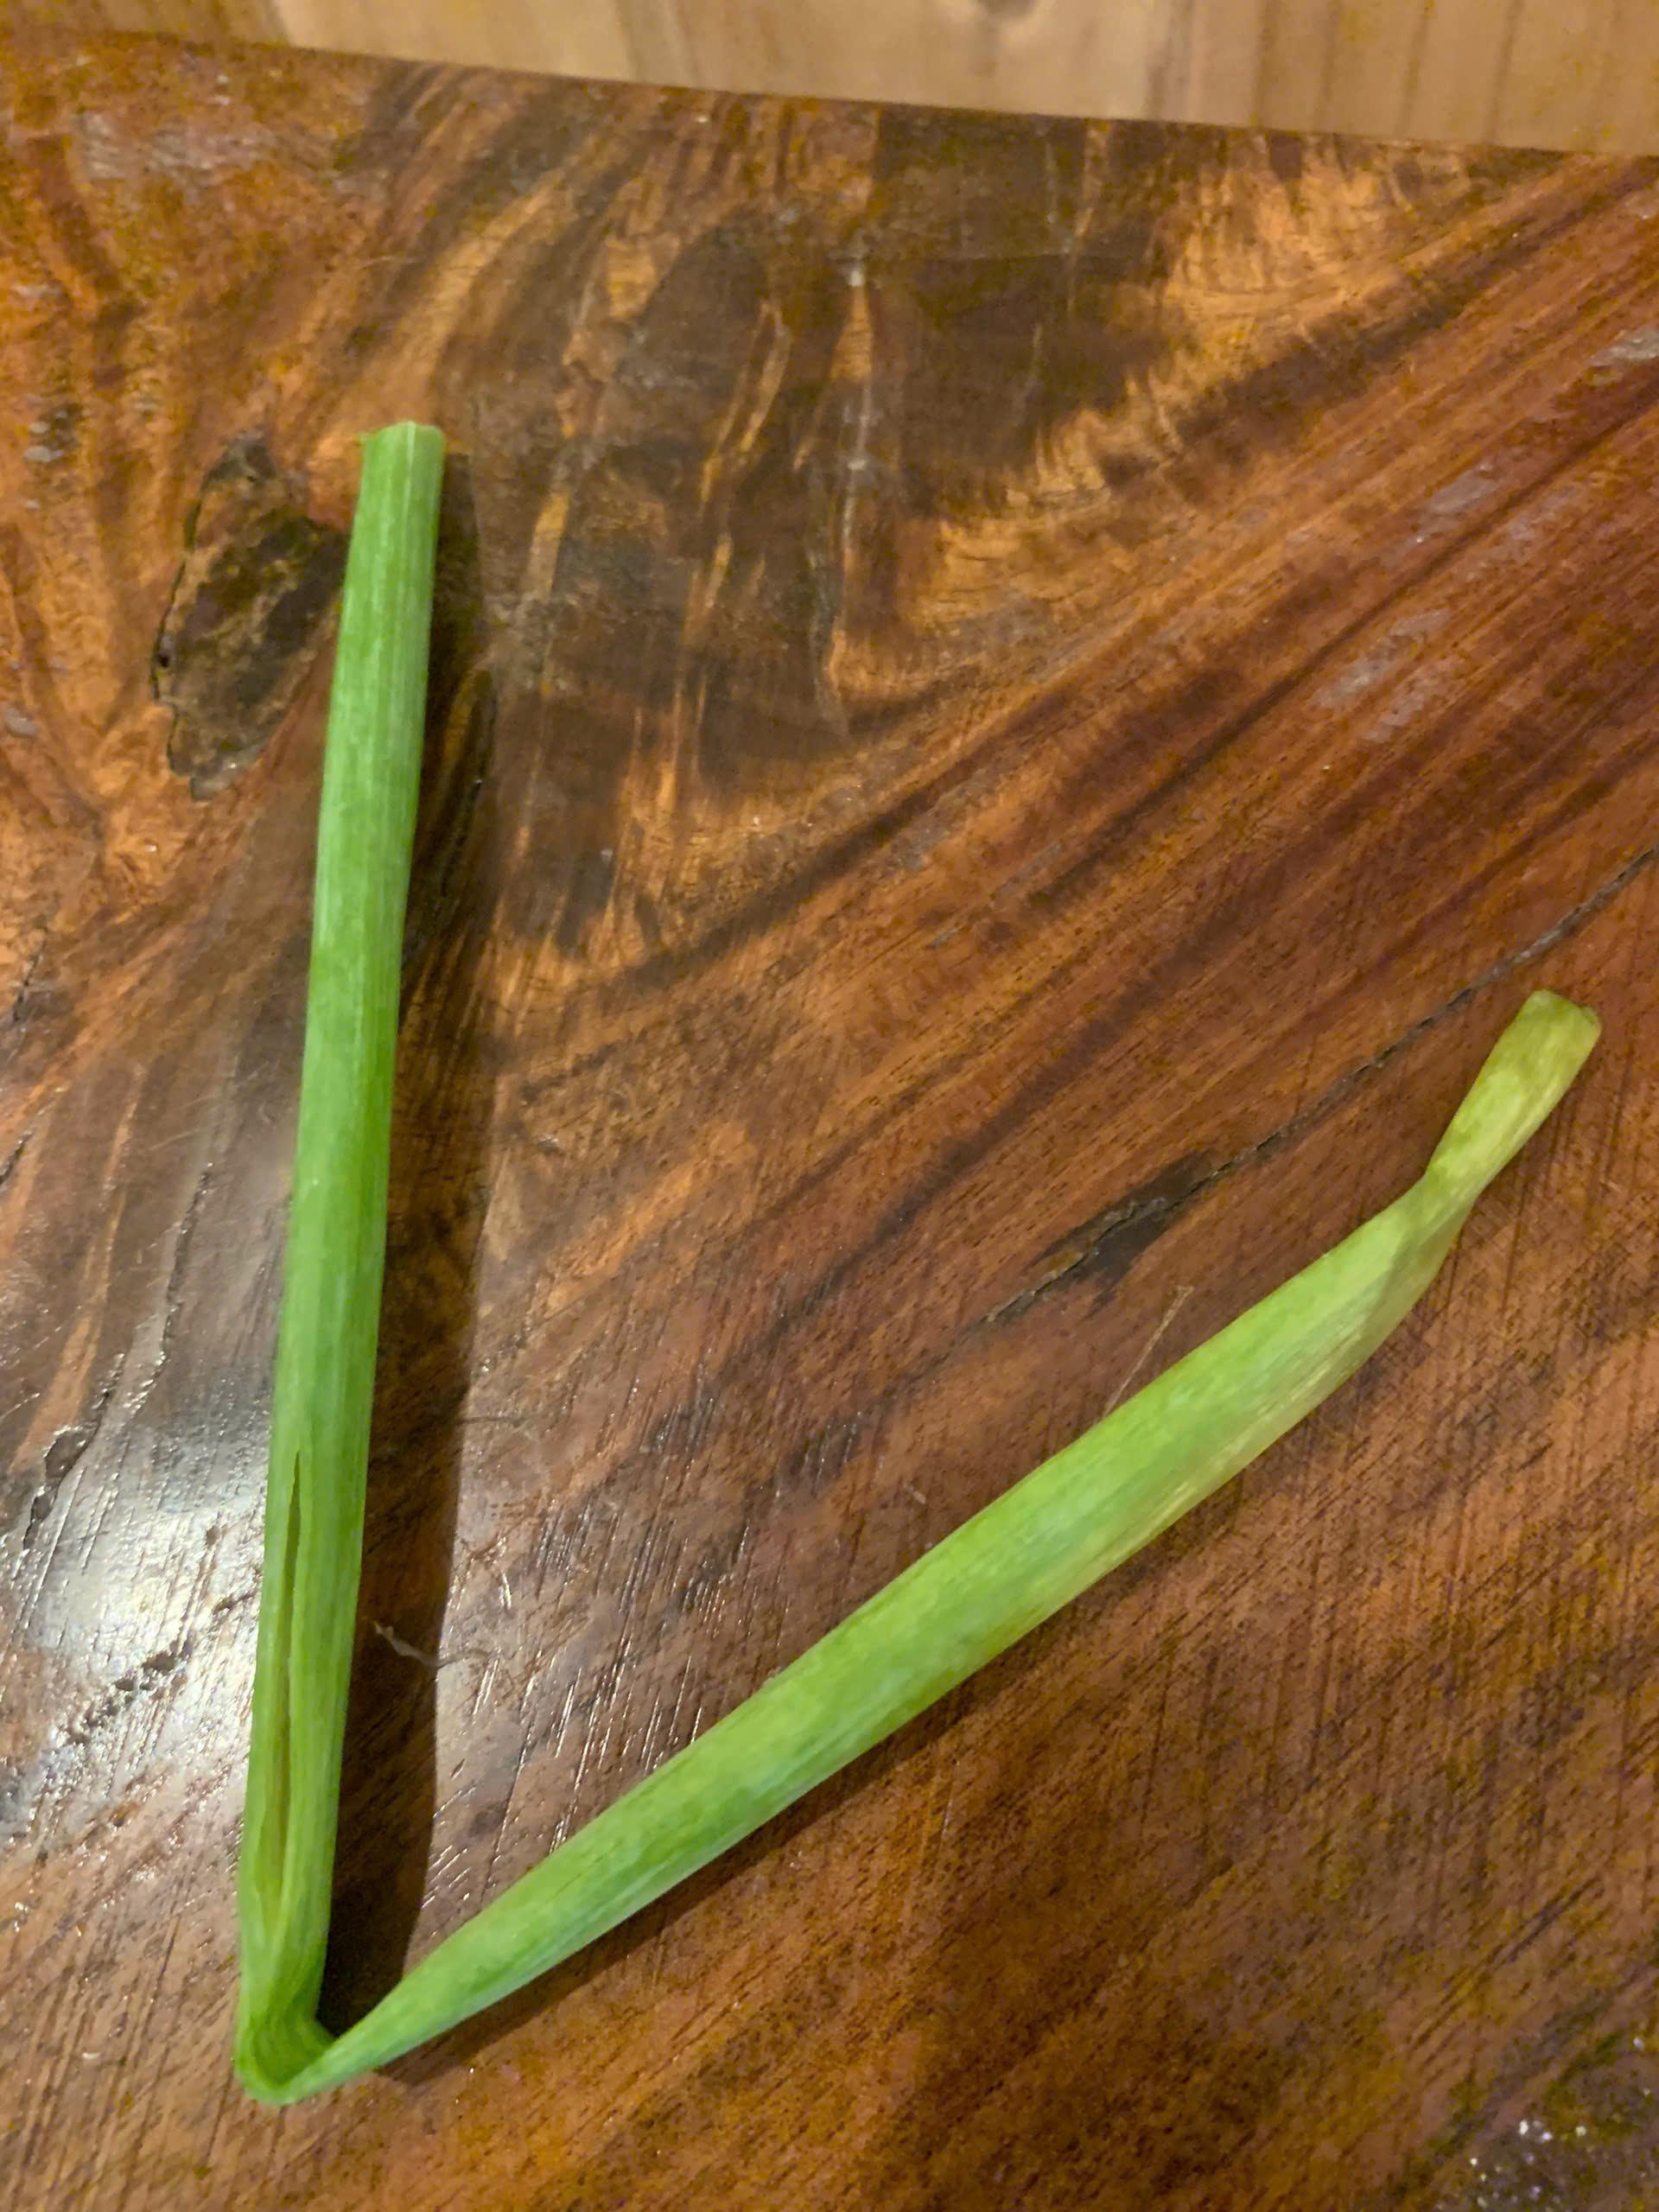Huu co: (237, 425, 1607, 2102)
